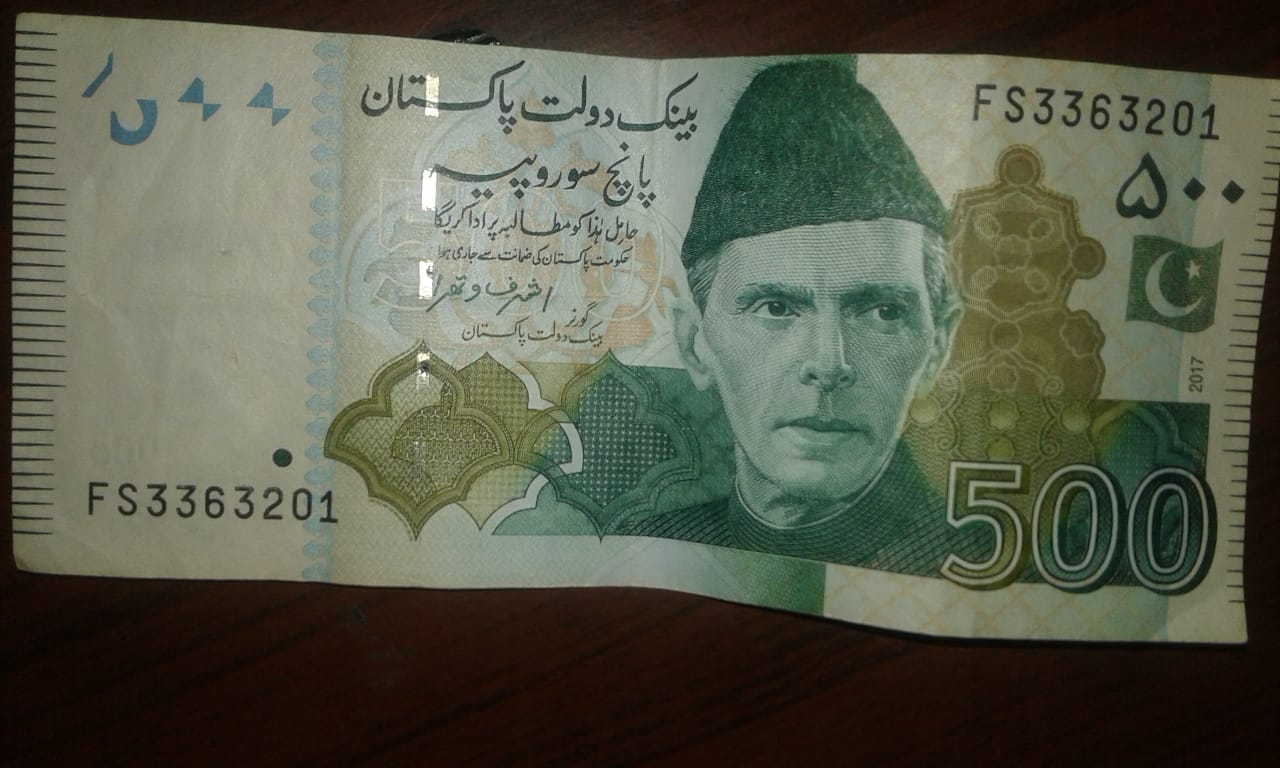500 rupee: (11, 16, 1254, 639)
